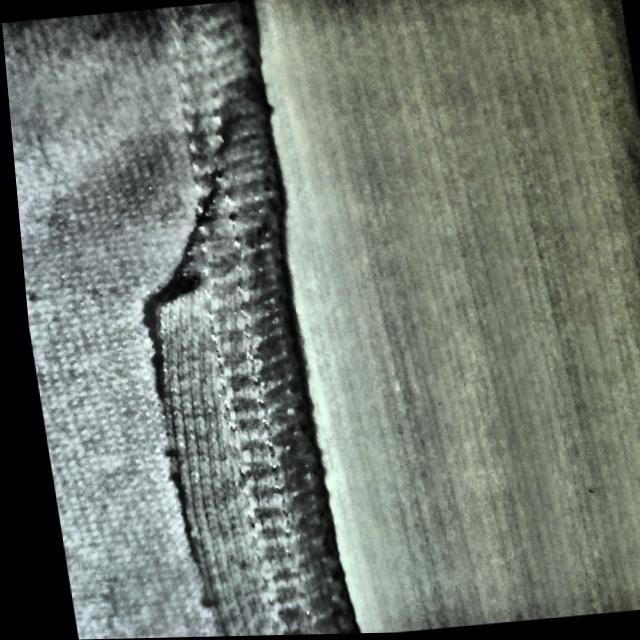seam: (85, 220, 357, 640)
